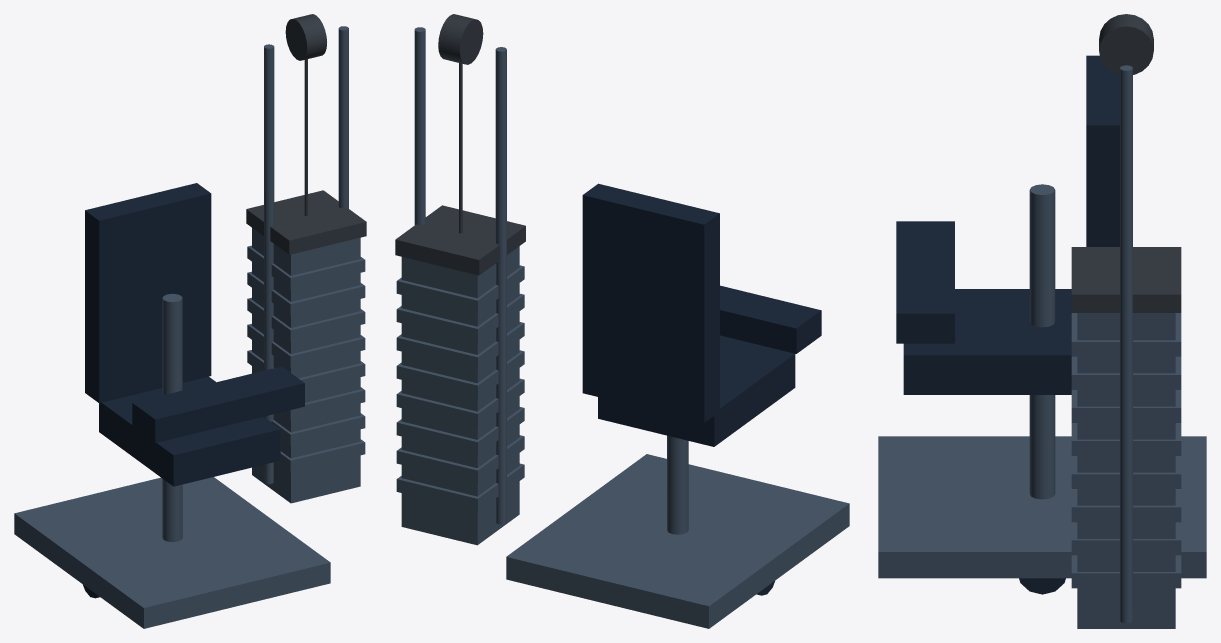
File: leg_curl.glb
3 views of the same model, side by side, from view 1: azimuth 30°, elevation 25°; view 2: azimuth 150°, elevation 25°; view 3: azimuth 270°, elevation 25° (orthographic). The views are drawn at different scales.
Visible parts, largest first — view 1: base, back, stack, weightPlate (×8), seat, thighPad, guide (×2), stackLift, legLever, loadPulley, loadCable, post; view 2: base, back, stack, weightPlate (×8), seat, guide (×2), stackLift, thighPad, post, loadPulley, loadCable; view 3: base, stack, weightPlate (×8), seat, thighPad, guide, stackLift, back, legLever, post, loadPulley, anklePad.
Boxes of the visible parts, x1=… form: base: x1=14, y1=477, x2=330, y2=628; back: x1=85, y1=183, x2=211, y2=403; stack: x1=252, y1=228, x2=360, y2=503; weightPlate (×8): x1=247, y1=245, x2=365, y2=472; seat: x1=99, y1=376, x2=280, y2=486; thighPad: x1=132, y1=366, x2=304, y2=442; guide (×2): x1=264, y1=26, x2=348, y2=484; stackLift: x1=246, y1=190, x2=366, y2=254; legLever: x1=162, y1=293, x2=182, y2=542; loadPulley: x1=285, y1=14, x2=326, y2=60; loadCable: x1=304, y1=59, x2=307, y2=216; post: x1=162, y1=478, x2=182, y2=540; base: x1=506, y1=454, x2=849, y2=628; back: x1=582, y1=183, x2=719, y2=422; stack: x1=401, y1=246, x2=519, y2=545; weightPlate (×8): x1=396, y1=265, x2=524, y2=511; seat: x1=598, y1=335, x2=795, y2=446; guide (×2): x1=414, y1=27, x2=506, y2=524; stackLift: x1=395, y1=205, x2=525, y2=275; thighPad: x1=720, y1=285, x2=821, y2=353; post: x1=667, y1=435, x2=688, y2=534; loadPulley: x1=438, y1=14, x2=483, y2=64; loadCable: x1=459, y1=63, x2=462, y2=233; base: x1=878, y1=436, x2=1206, y2=578; stack: x1=1077, y1=313, x2=1175, y2=628; weightPlate (×8): x1=1071, y1=313, x2=1181, y2=588; seat: x1=903, y1=289, x2=1071, y2=394; thighPad: x1=896, y1=221, x2=954, y2=343; guide: x1=1120, y1=65, x2=1132, y2=623; stackLift: x1=1071, y1=247, x2=1181, y2=312; back: x1=1086, y1=55, x2=1119, y2=246; legLever: x1=1029, y1=184, x2=1055, y2=496; post: x1=1029, y1=395, x2=1055, y2=499; loadPulley: x1=1099, y1=14, x2=1153, y2=74; anklePad: x1=1019, y1=578, x2=1065, y2=594.
Bounding box in the file's own units: 1.21 × 1.9 × 0.9.
